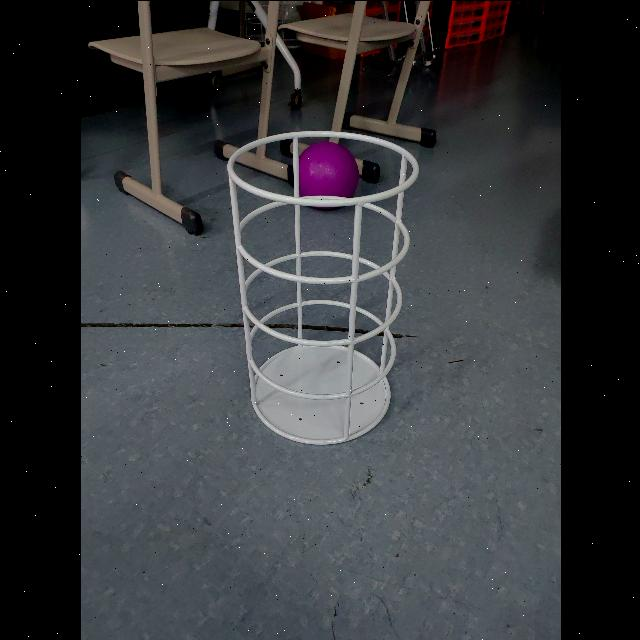S: (223, 126, 423, 450)
